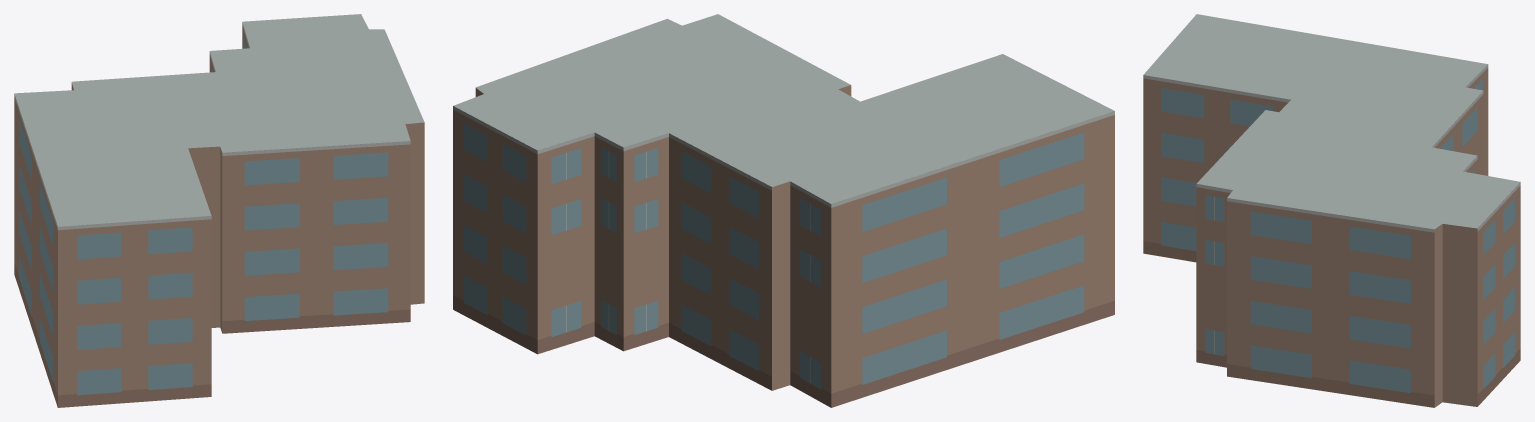
The model's file is survey-upis-32871314.glb.
3 views of the same model, side by side, from view 1: azimuth 30°, elevation 25°; view 2: azimuth 150°, elevation 25°; view 3: azimuth 270°, elevation 25° (orthographic). The views are drawn at different scales.
Visible parts, largest first — view 1: survey-upis-32871314.tmp; view 2: survey-upis-32871314.tmp; view 3: survey-upis-32871314.tmp.
Part boxes in pixels (x1,y1,x2,y2): survey-upis-32871314.tmp: (14,14,424,407); survey-upis-32871314.tmp: (453,14,1114,407); survey-upis-32871314.tmp: (1143,14,1520,407).
Size of the model in its own units: 33.63 by 13 by 24.91.
